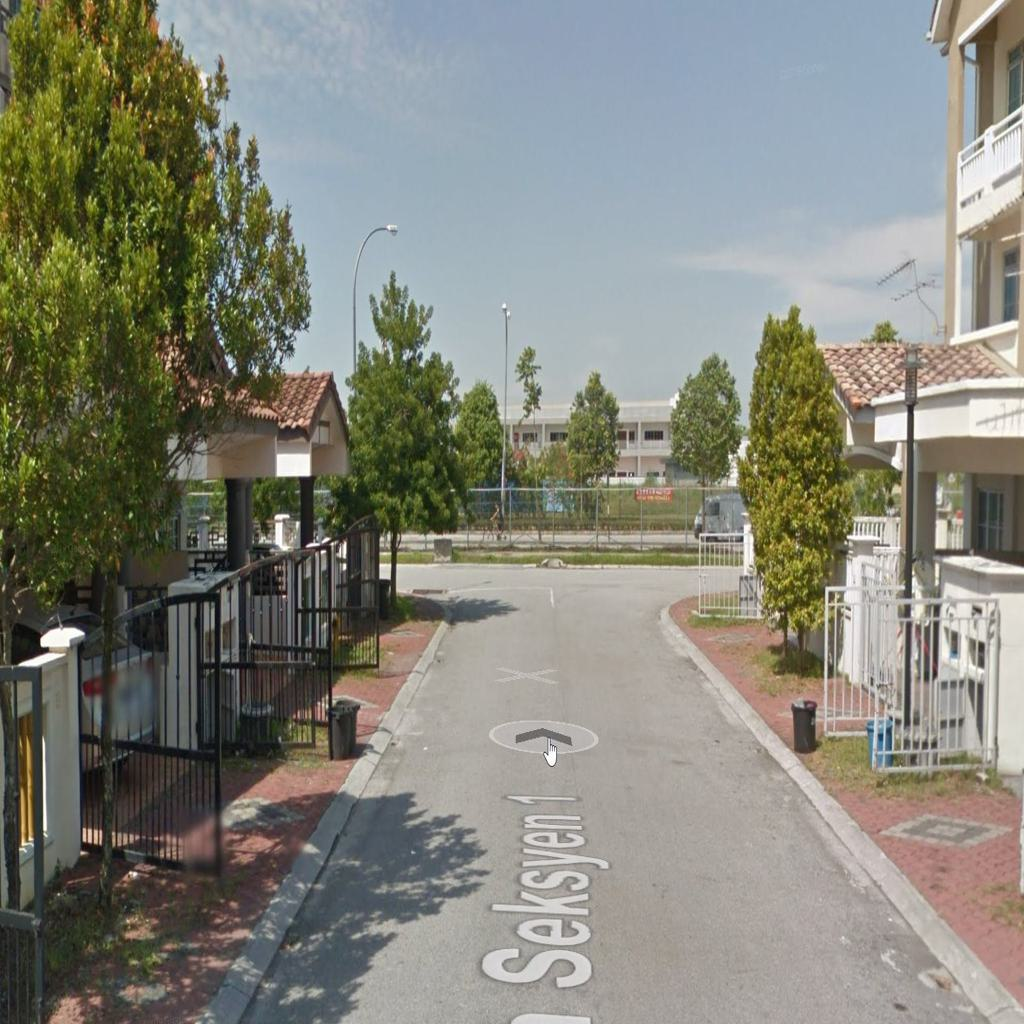Junction: (619, 538, 733, 626), (395, 541, 490, 623)
